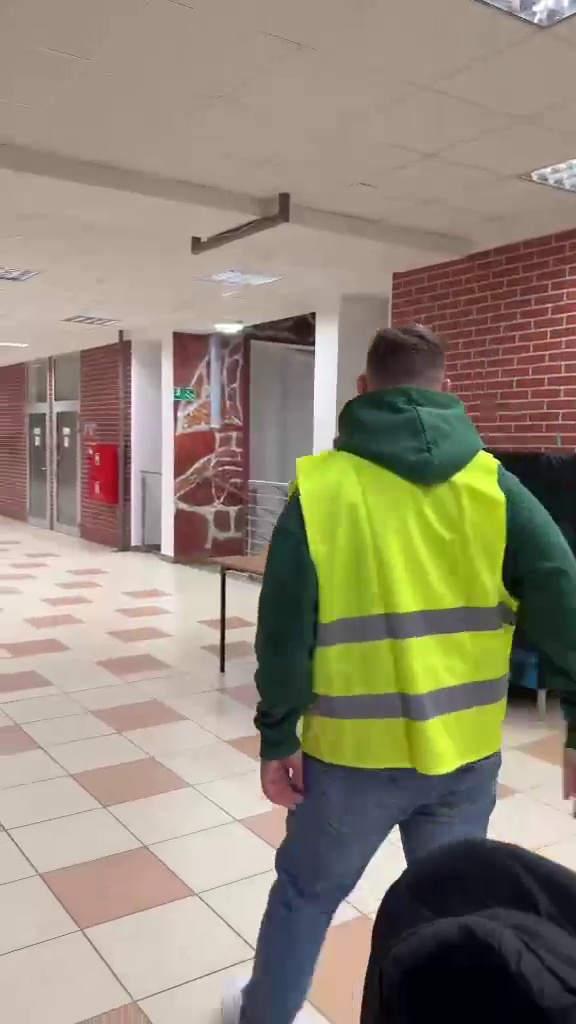vest: (245, 315, 574, 1018)
